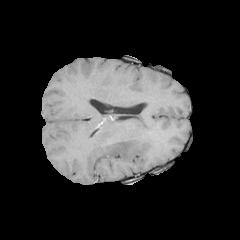glioma: (101, 114, 145, 163)
